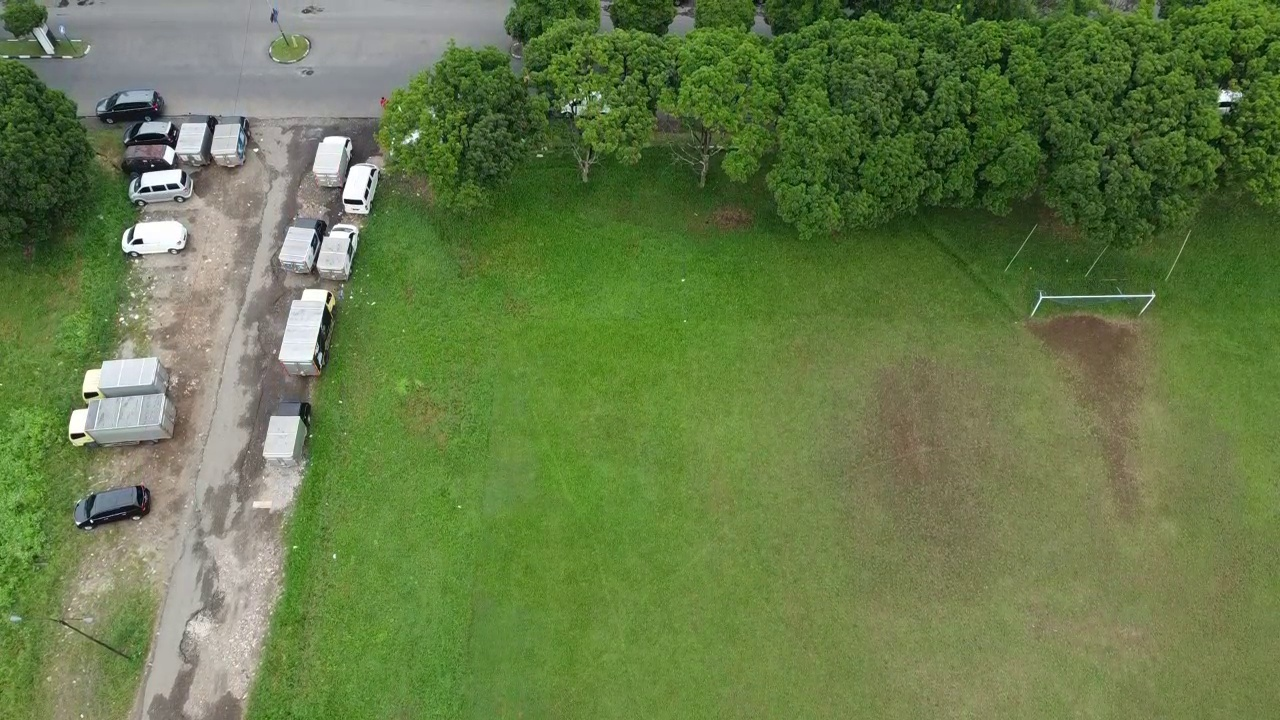mobil: (68, 486, 157, 531), (122, 215, 192, 259), (88, 86, 166, 124), (128, 167, 195, 208), (341, 158, 382, 220), (121, 119, 182, 152), (119, 142, 176, 175)
